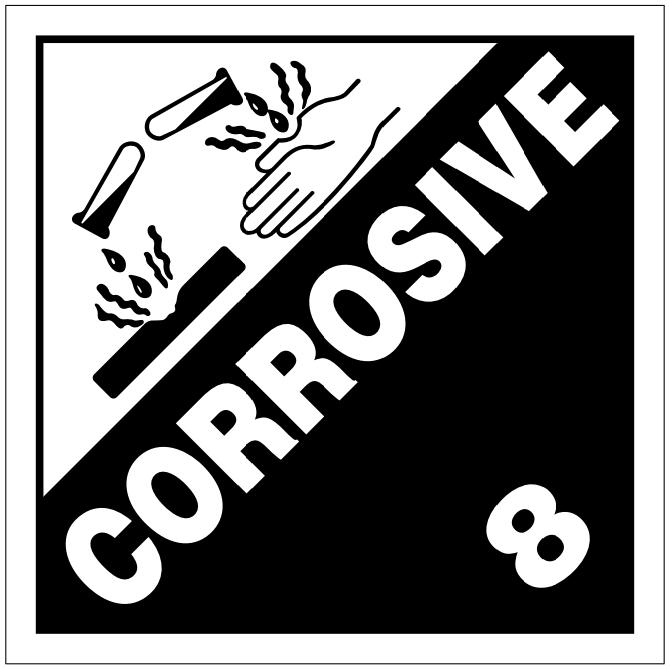corrosive: (1, 1, 670, 669)
